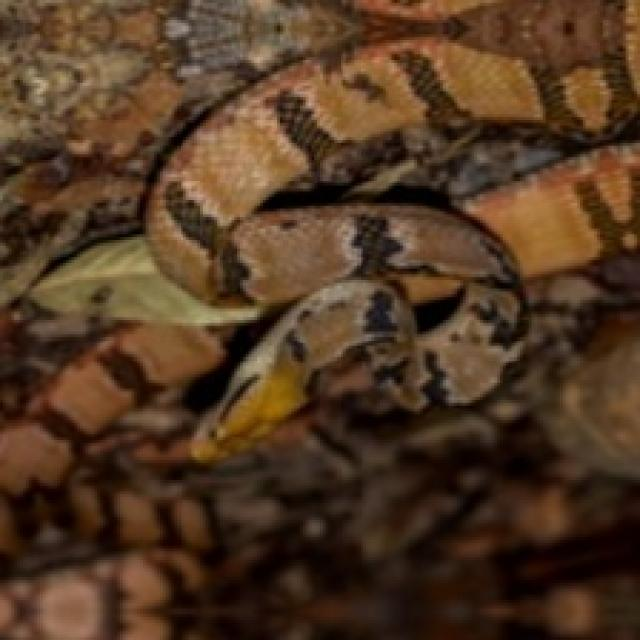dog-toothed cat snake: (146, 0, 637, 460)
